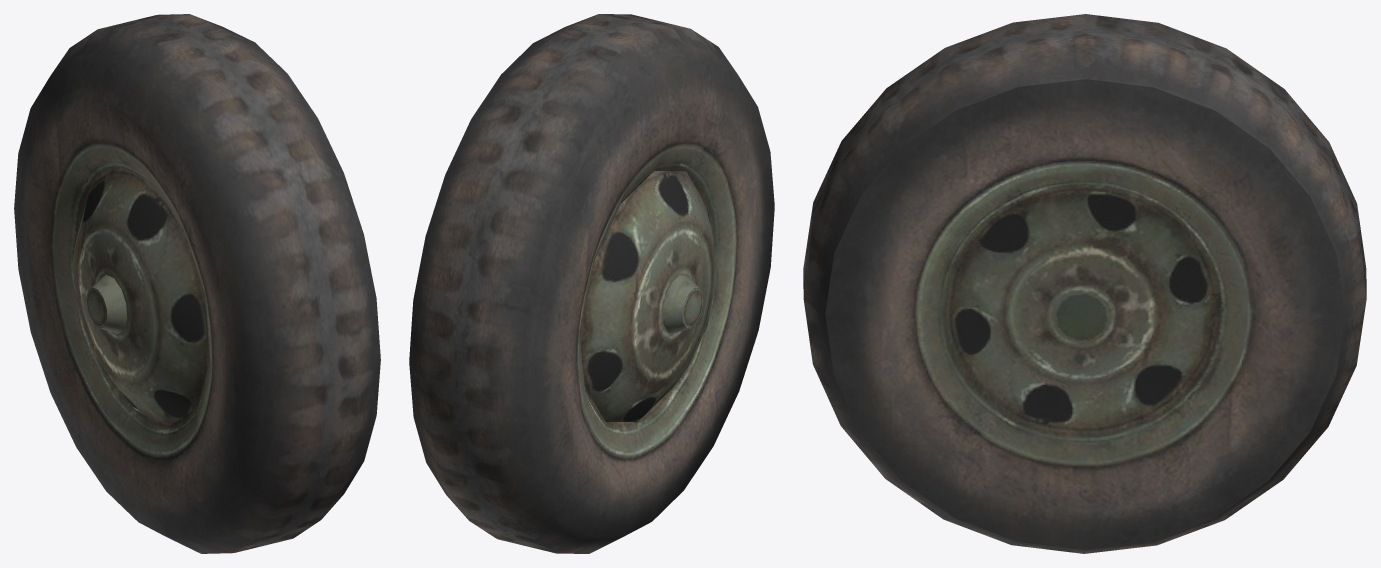
Rendered from rear_wheel.obj.
3 renders of one model, left to right at view 1: azimuth 30°, elevation 25°; view 2: azimuth 150°, elevation 25°; view 3: azimuth 270°, elevation 25°, orthographic. The views are drawn at different scales.
Parts seen in each view (by area): view 1: armytruck.001; view 2: armytruck.001; view 3: armytruck.001.
Part boxes in pixels (x1,y1,x2,y2): armytruck.001: (14,14,380,553); armytruck.001: (409,14,774,553); armytruck.001: (803,14,1366,553).
Size of the model in its own units: 1 by 2.77 by 2.78.
Materials: 1 (1 with a texture image).
